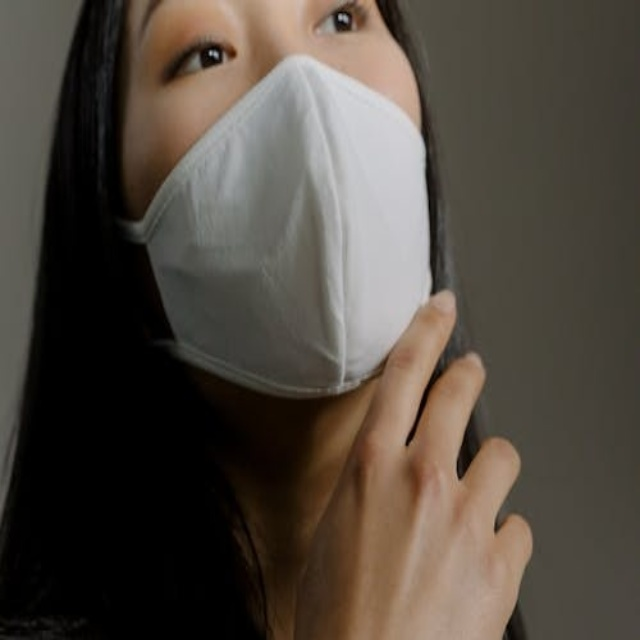Mascara: (117, 54, 433, 401)
Sin_gafas: (134, 2, 399, 94)
Sin_guantes: (289, 261, 549, 634)
